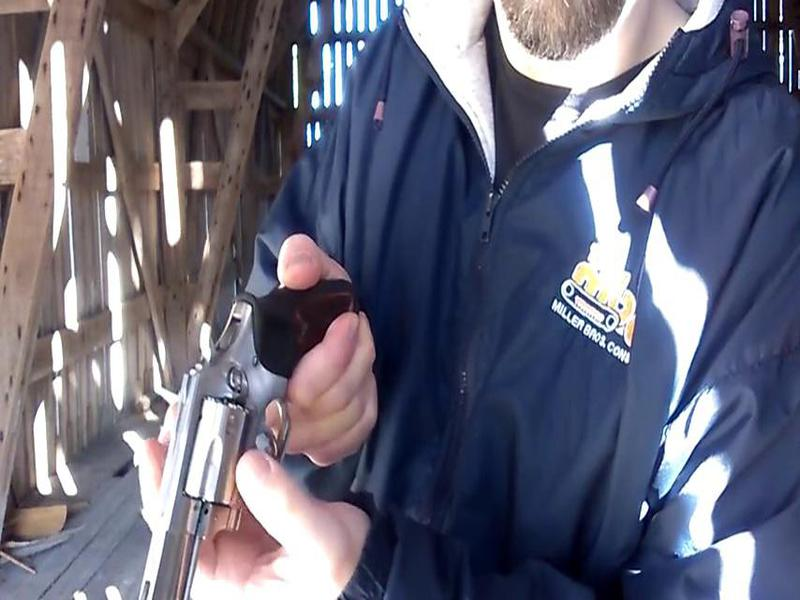Revolver: (124, 265, 372, 600)
